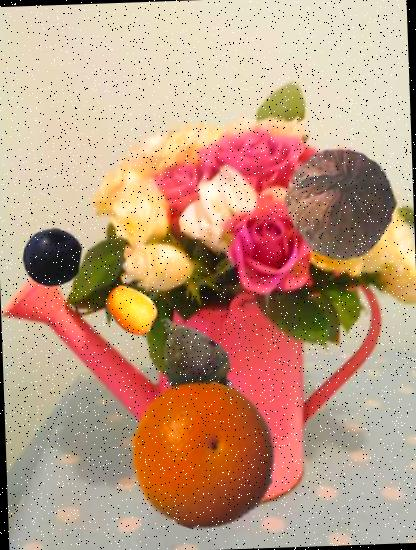Beetroot: (138, 305, 242, 410)
Grape: (22, 228, 84, 288)
Grapefruit: (128, 379, 281, 532)
Kumquats: (103, 281, 160, 338)
Walnut: (280, 144, 402, 264)
